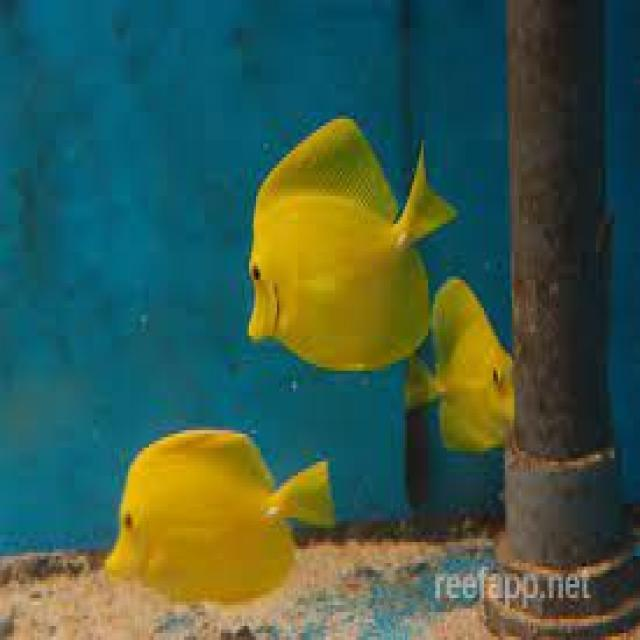TangFish: (243, 106, 456, 369), (97, 423, 335, 606), (404, 275, 522, 461)
